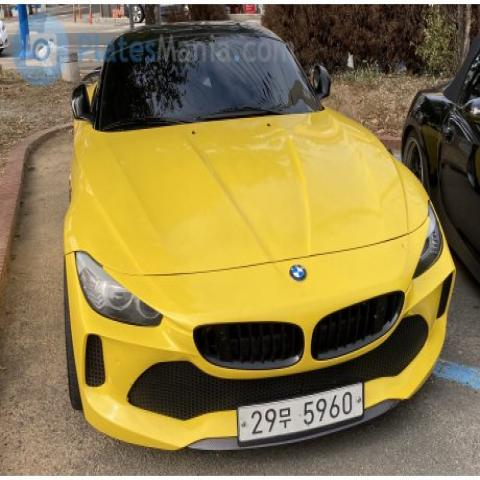LP: (235, 374, 369, 451)
